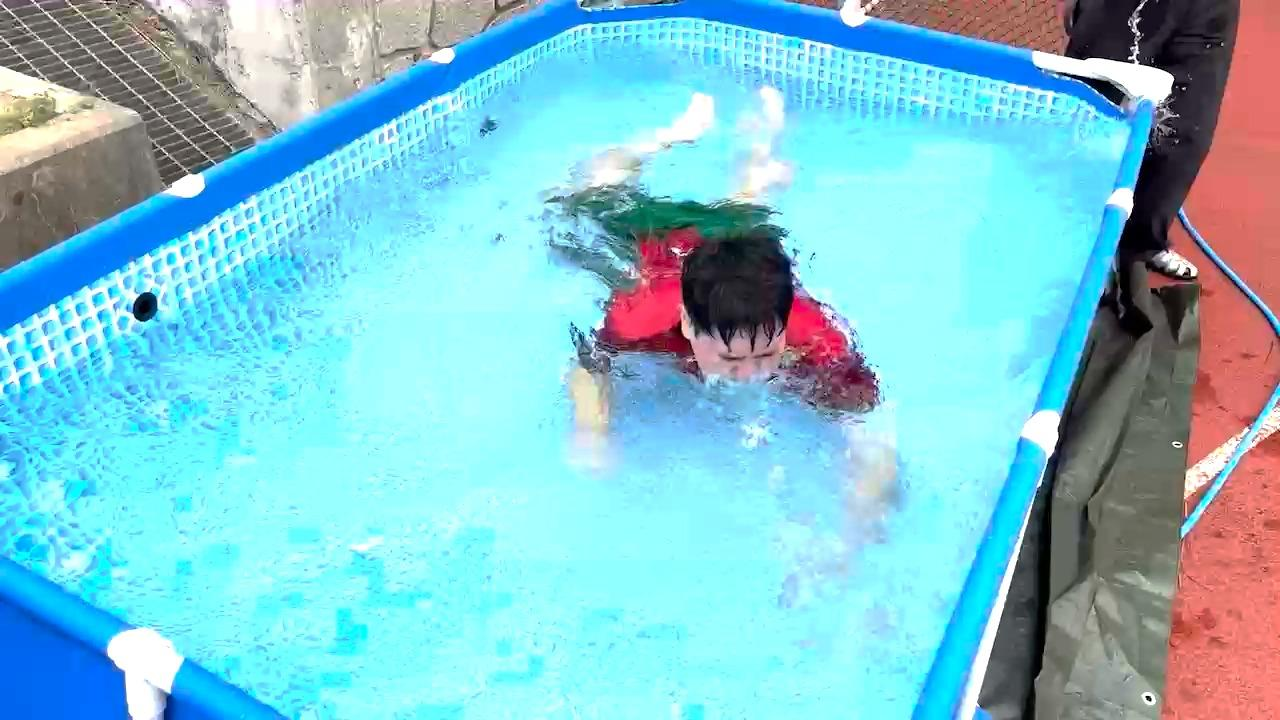Drowning: (509, 13, 911, 573)
